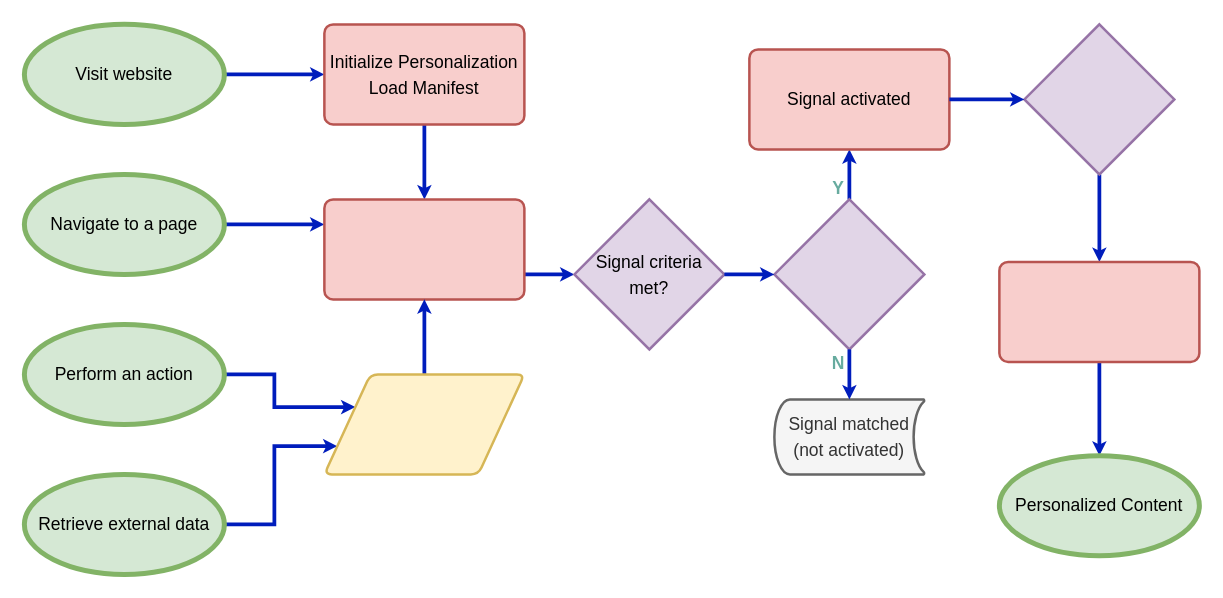
This 1223x598 diagram has some shape labels left out. The shapes that lost their labels are listed below. From the top down, each one's centre as x and y in pixels, then its label:
At point 1098,98: "Audience conditions met?".
At point 423,249: "Compute signals".
At point 848,274: "Signal min. matches met?".
At point 1099,311: "Audience activated".
At point 423,423: "Set custom attribute(s)".
